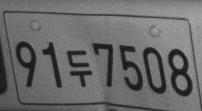0: (143, 45, 166, 94)
1: (40, 41, 63, 88)
5: (118, 43, 143, 91)
7: (92, 41, 114, 86)
8: (167, 47, 193, 97)
9: (14, 40, 37, 87)
두: (66, 49, 93, 88)
